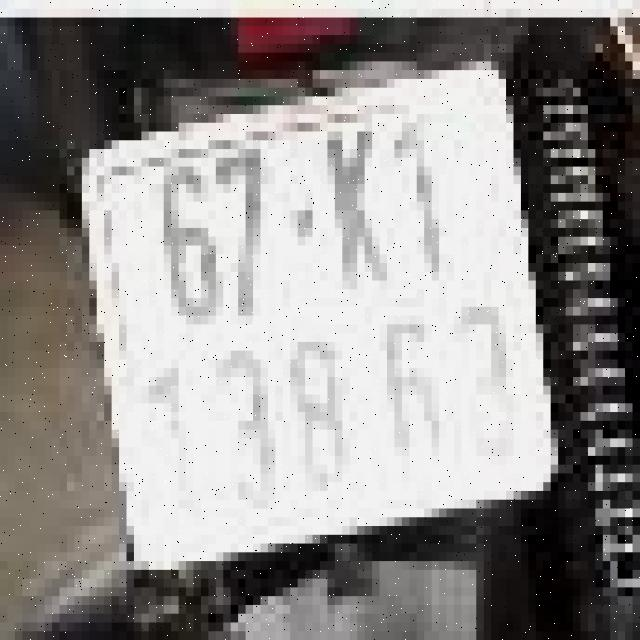1: (141, 355, 201, 530), (394, 101, 446, 285)
3: (212, 346, 279, 513)
6: (153, 158, 220, 333), (379, 311, 446, 478)
7: (216, 140, 268, 324)
8: (286, 329, 354, 495)
9: (454, 294, 513, 469)
K: (320, 123, 394, 298)
